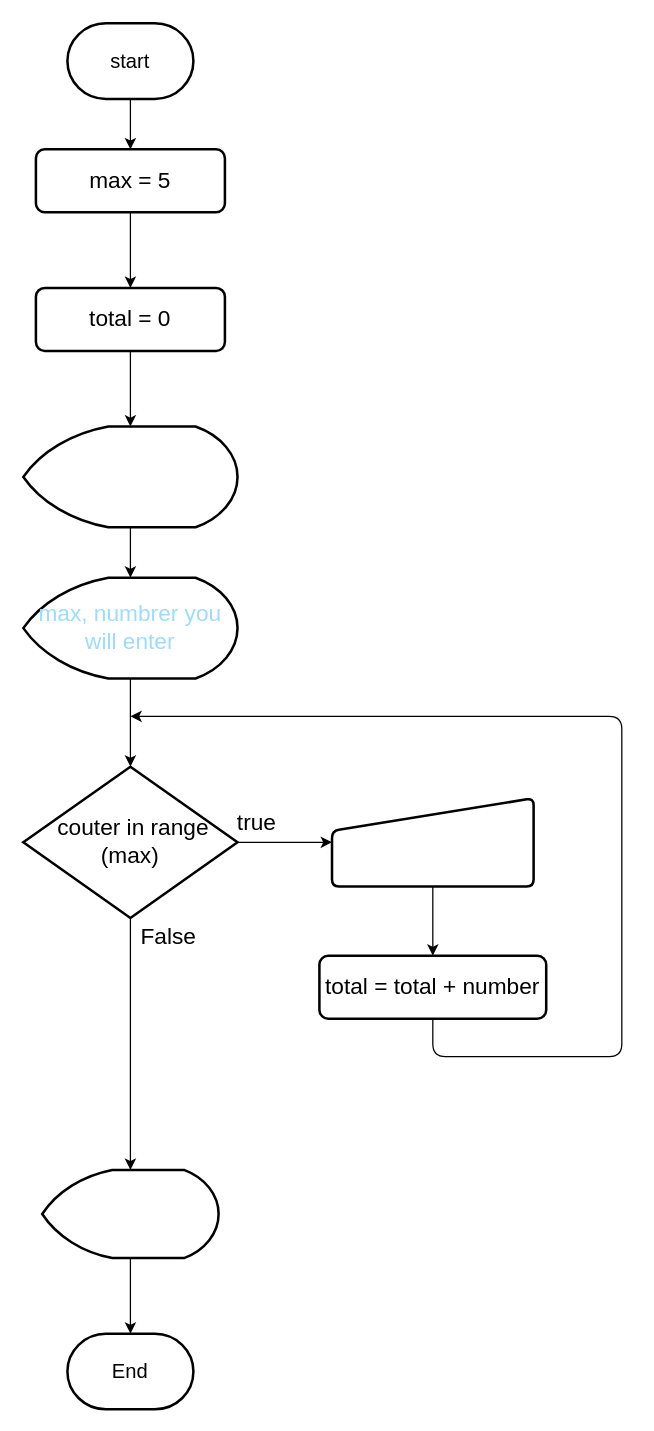
Some shapes in this 654 by 1431 pixel diagram are drawn without their labels. The centre of each missing label's shape, as x and y in pixels:
"number" belongs at point 432,841.
"the program calculate the sum of" belongs at point 129,476.
"total" belongs at point 129,1213.
